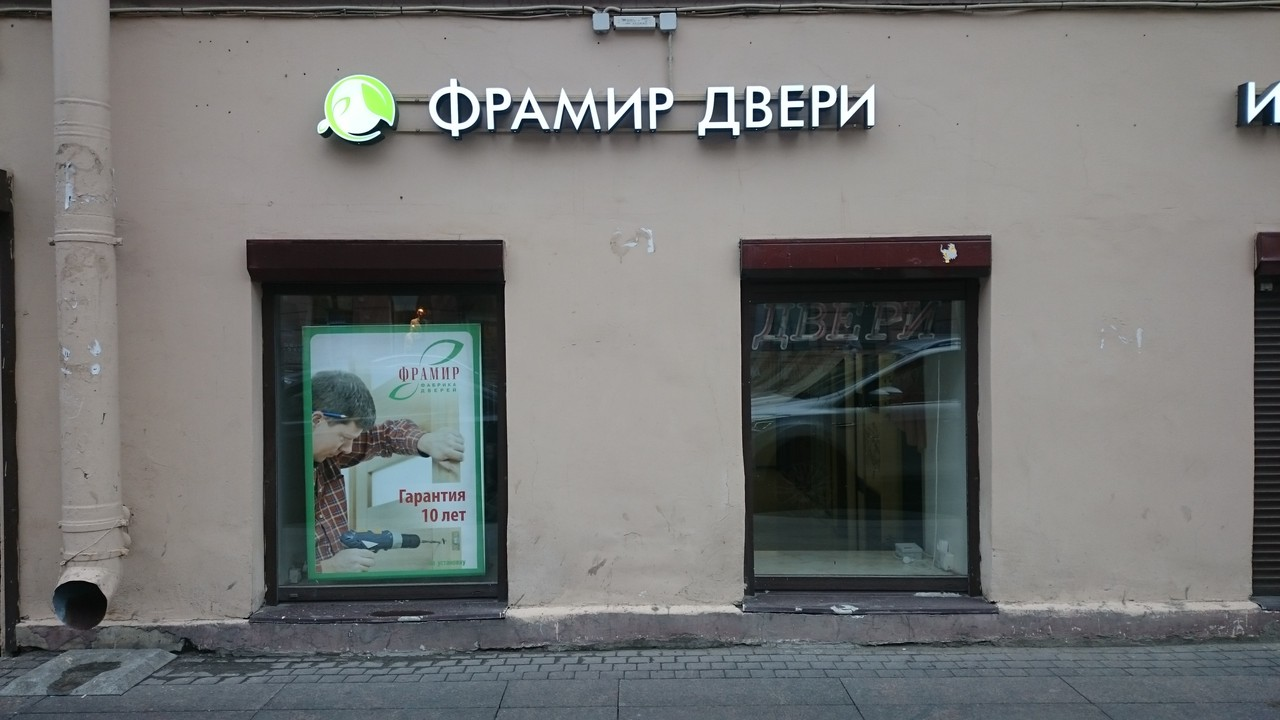signboard: (313, 67, 888, 149)
window: (739, 242, 987, 602), (265, 277, 503, 601)
